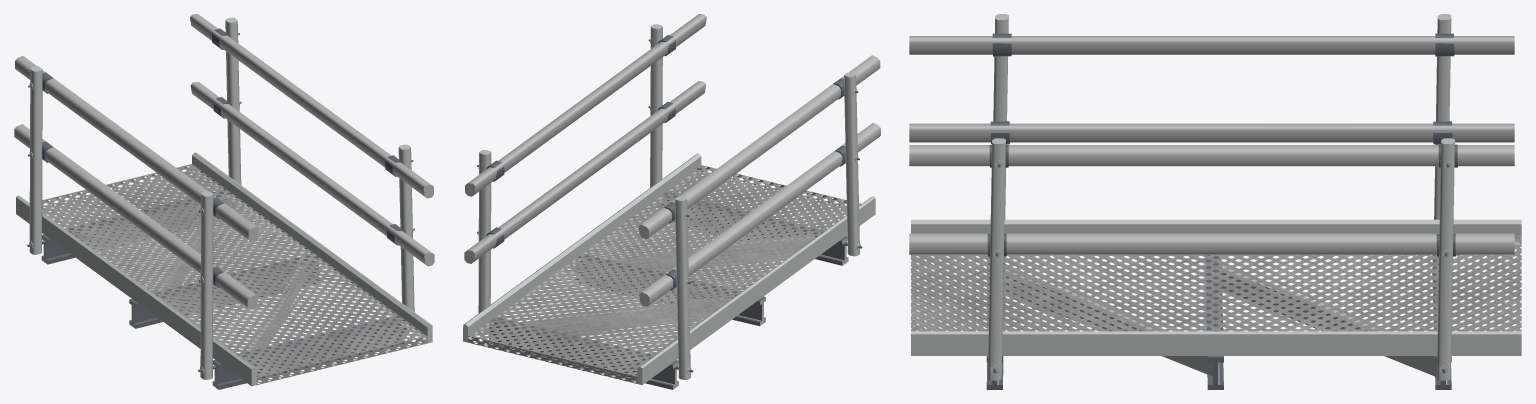
File: Flatwalk FBX.fbx
3 views of the same model, side by side, from view 1: azimuth 30°, elevation 25°; view 2: azimuth 150°, elevation 25°; view 3: azimuth 270°, elevation 25° (orthographic). The views are drawn at different scales.
Parts seen in each view (by area): view 1: catwalk_flat_Trig1; view 2: catwalk_flat_Trig1; view 3: catwalk_flat_Trig1.
Boxes of the visible parts, x1=… form: catwalk_flat_Trig1: x1=14, y1=14, x2=434, y2=389; catwalk_flat_Trig1: x1=463, y1=14, x2=880, y2=389; catwalk_flat_Trig1: x1=909, y1=14, x2=1521, y2=389.
Size of the model in its own units: 196 by 167 by 369.
